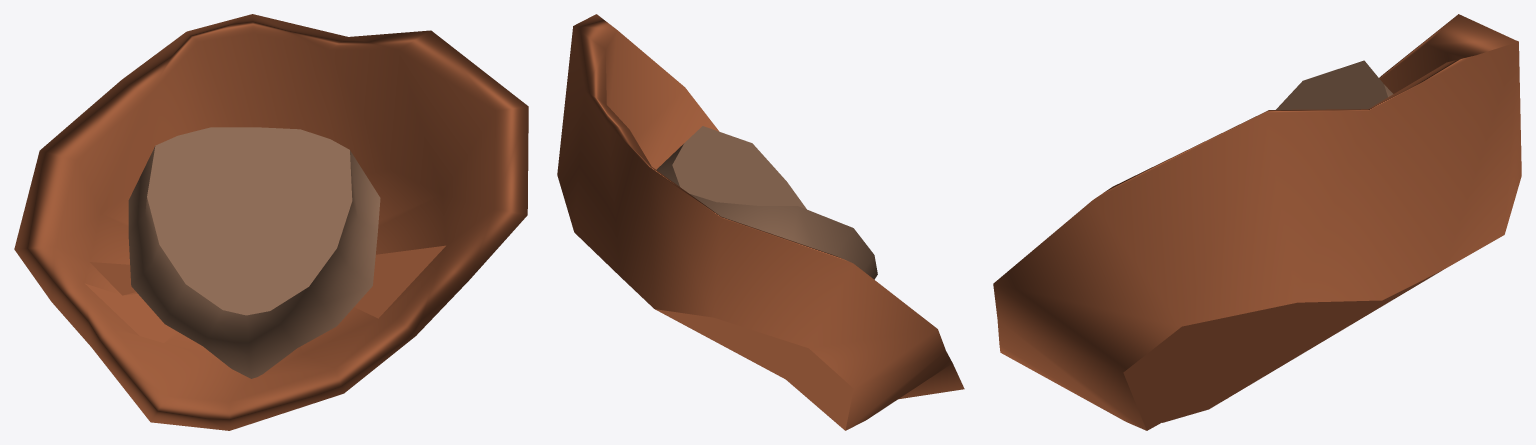
Rendered from BH_Neck.fbx.
3 views of the same model, side by side, from view 1: azimuth 30°, elevation 25°; view 2: azimuth 150°, elevation 25°; view 3: azimuth 270°, elevation 25° (orthographic). The views are drawn at different scales.
Parts seen in each view (by area): view 1: BH_Neck; view 2: BH_Neck; view 3: BH_Neck.
Part boxes in pixels (x1,y1,x2,y2): BH_Neck: [14, 14, 528, 430]; BH_Neck: [557, 14, 964, 430]; BH_Neck: [993, 14, 1521, 430].
Bounding box in the file's own units: 21.08 × 14.7 × 16.1.
